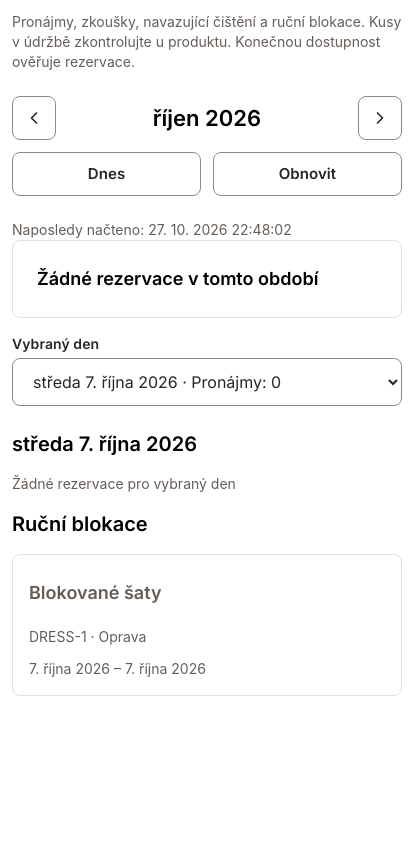
Scenario: manual blocks show on their inclusive day and link to the owning product
The width and height of the screenshot is (414, 856).
Expected: the text "DRESS-1 · Oprava" is shown, left=29, top=628, right=146, bottom=645
Select "čtvrtek 8. října 2026 · Pronájmy: 0" in the dropdown labelled "Vybraný den" at [207, 382], box left=12, top=358, right=402, bottom=406
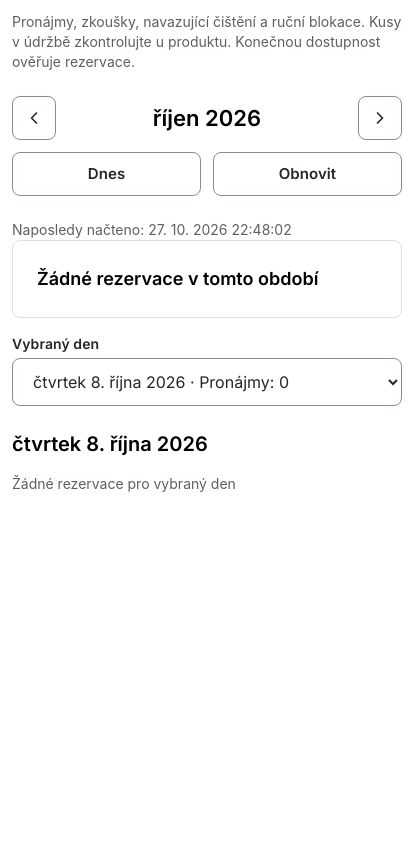
Now the link "Blokované šaty" is gone
